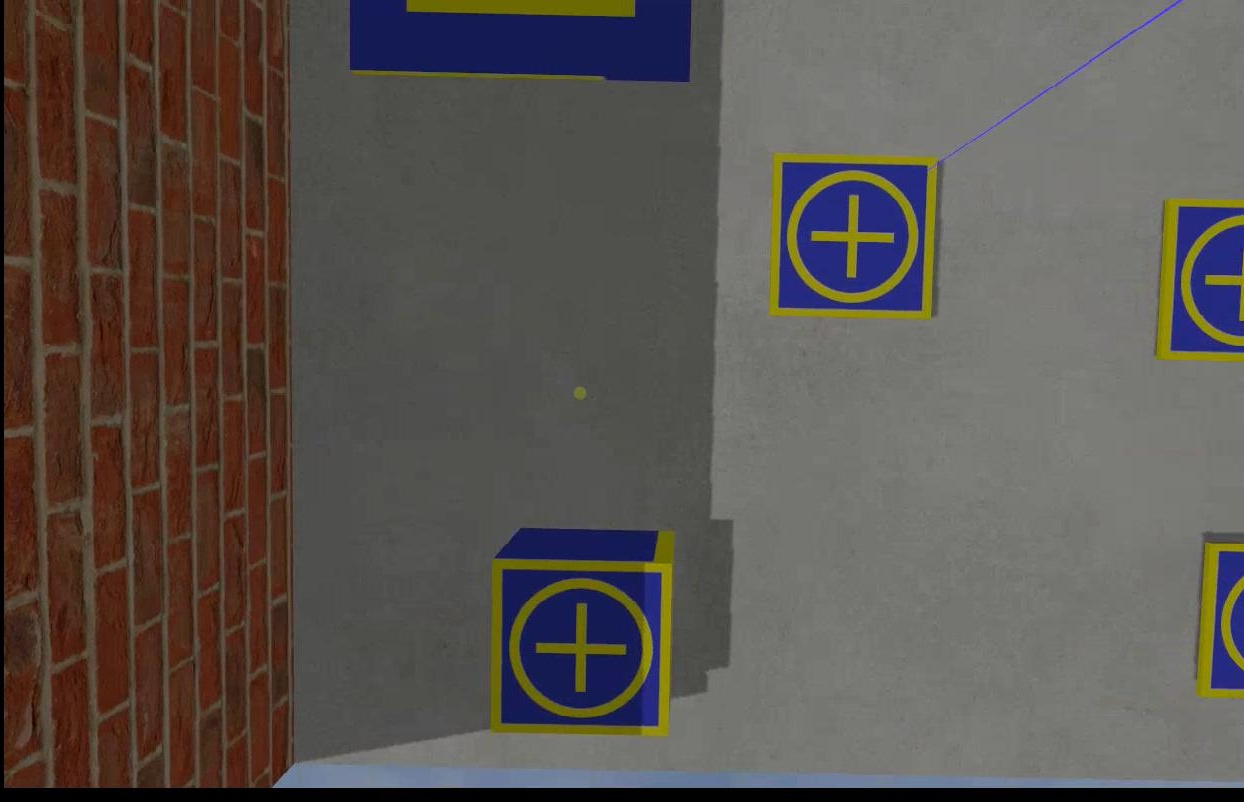large_base: (350, 1, 692, 87)
small_base: (488, 555, 672, 739), (763, 154, 937, 326), (1151, 194, 1242, 364), (1194, 536, 1242, 707)
